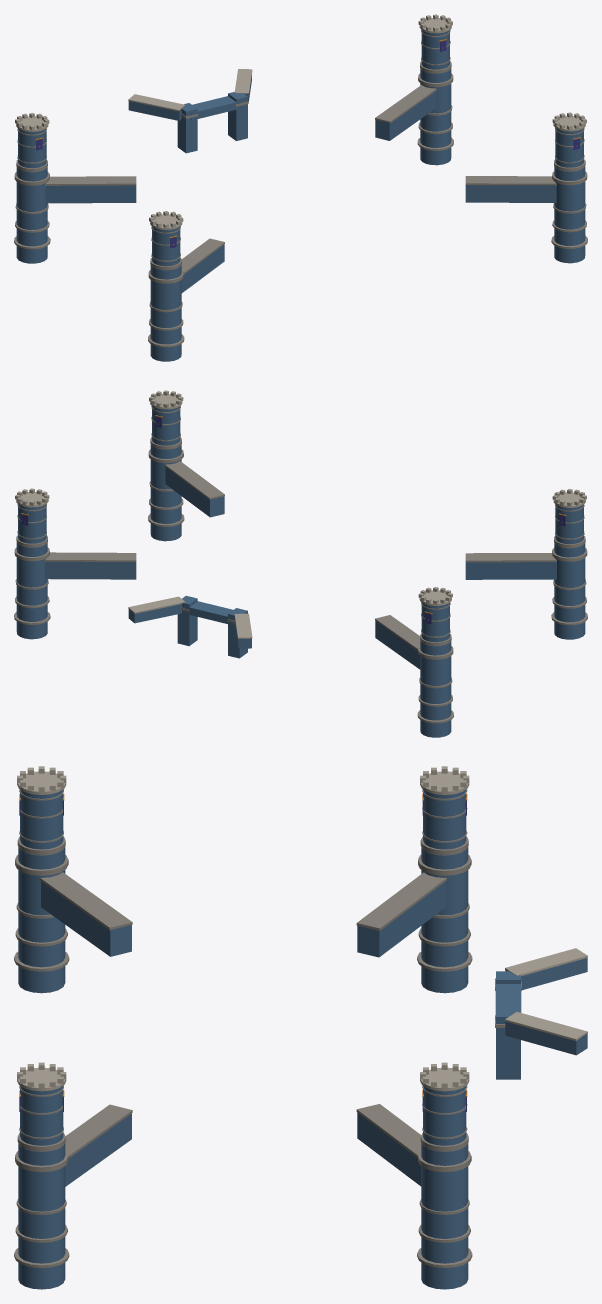
Rendered from high_crown_outer_support.obj.
3 views of the same model, one above another, from view 1: azimuth 30°, elevation 25°; view 2: azimuth 150°, elevation 25°; view 3: azimuth 270°, elevation 25° (orthographic). The views are drawn at different scales.
Parts seen in each view (by area): view 1: high_crown_outer_support; view 2: high_crown_outer_support; view 3: high_crown_outer_support.
Part boxes in pixels (bbox=[...]): high_crown_outer_support: bbox=[14, 14, 587, 361]; high_crown_outer_support: bbox=[14, 390, 587, 737]; high_crown_outer_support: bbox=[14, 766, 587, 1289].
Bounding box in the file's own units: 126 × 37.82 × 95.31.
